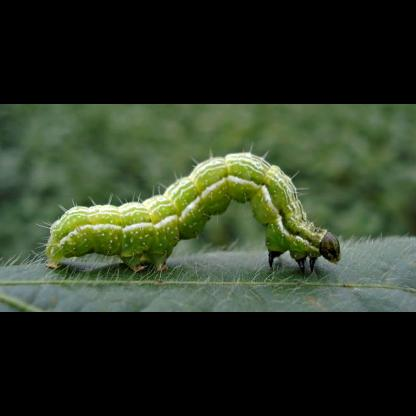oruga: (40, 147, 350, 275)
